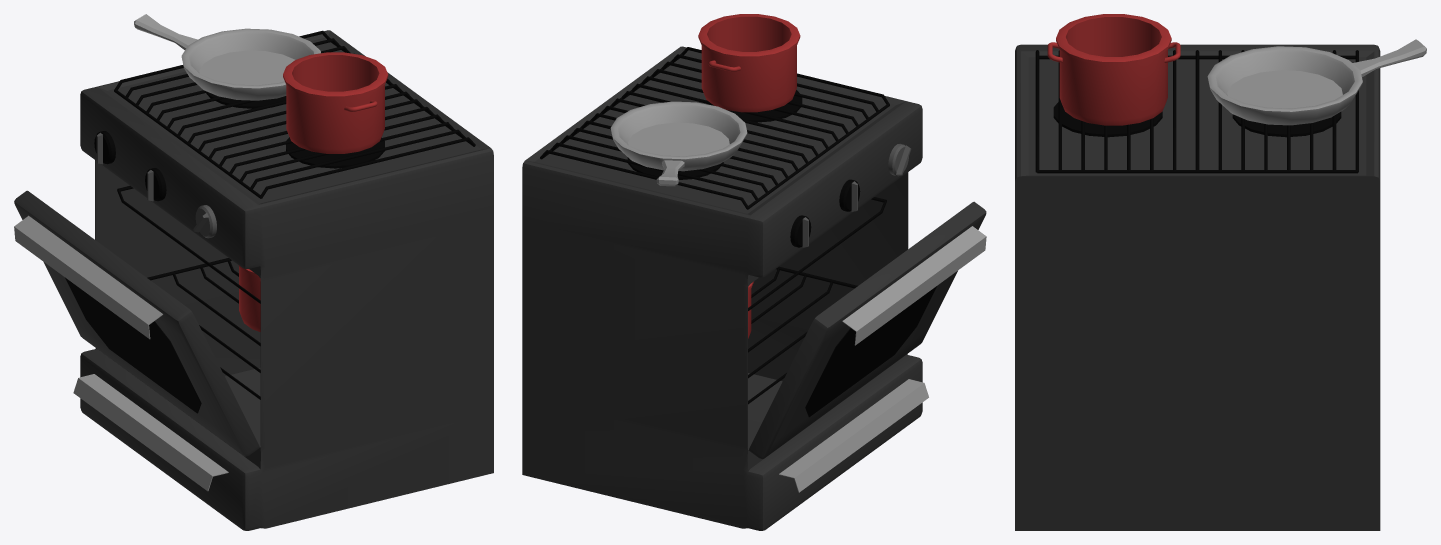
File: Только комфорки.fbx
3 renders of one model, left to right at view 1: azimuth 30°, elevation 25°; view 2: azimuth 150°, elevation 25°; view 3: azimuth 270°, elevation 25°, orthographic. The views are drawn at different scales.
Parts seen in each view (by area): view 1: Box009, Дверь духовки, Cylinder005, Решетка, Cylinder004, Object009, Решетка002, Cylinder006, Комфорка2, Решетка001, Object006; view 2: Box009, Дверь духовки, Cylinder005, Решетка, Cylinder004, Object009, Решетка002, Решетка001, Комфорка2, Object006; view 3: Box009, Cylinder005, Cylinder004, Решетка, Комфорка2, Комфорка1.
Part boxes in pixels (x1,y1,x2,y2): Box009: (80,30,493,530); Дверь духовки: (14,190,259,456); Cylinder005: (283,52,388,153); Решетка: (114,30,475,198); Cylinder004: (134,14,320,100); Object009: (73,374,228,491); Решетка002: (147,258,260,399); Cylinder006: (238,265,260,331); Комфорка2: (286,137,384,168); Решетка001: (117,186,260,303); Object006: (94,131,115,164); Box009: (522,46,922,530); Дверь духовки: (749,201,986,458); Cylinder005: (698,14,800,112); Решетка: (540,47,889,209); Cylinder004: (610,101,747,186); Object009: (779,379,928,492); Решетка002: (748,266,857,404); Решетка001: (748,197,886,310); Комфорка2: (707,90,802,122); Object006: (790,215,811,247); Box009: (1015,44,1380,530); Cylinder005: (1047,14,1180,125); Cylinder004: (1207,39,1426,125); Решетка: (1035,50,1358,173); Комфорка2: (1053,102,1162,137); Комфорка1: (1232,112,1341,137).
Bounding box in the file's own units: 991 × 977 × 1133.
